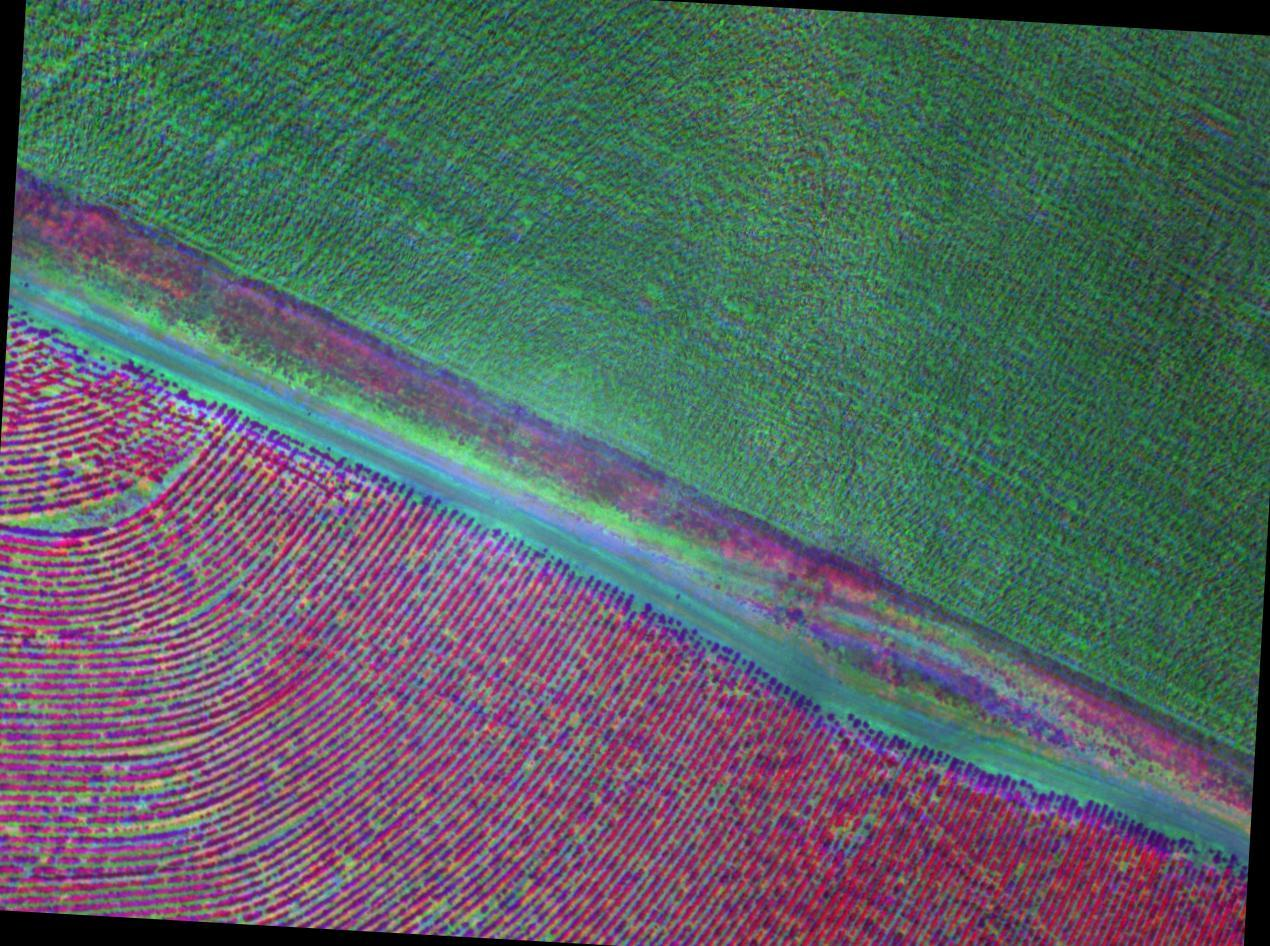dc: (1, 420, 218, 547), (266, 808, 382, 921), (413, 868, 587, 939), (83, 743, 202, 842)
